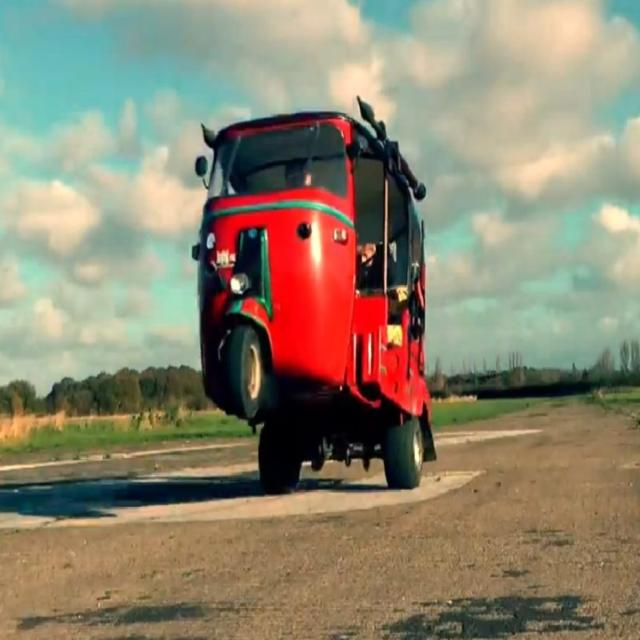accident: (192, 102, 435, 493)
